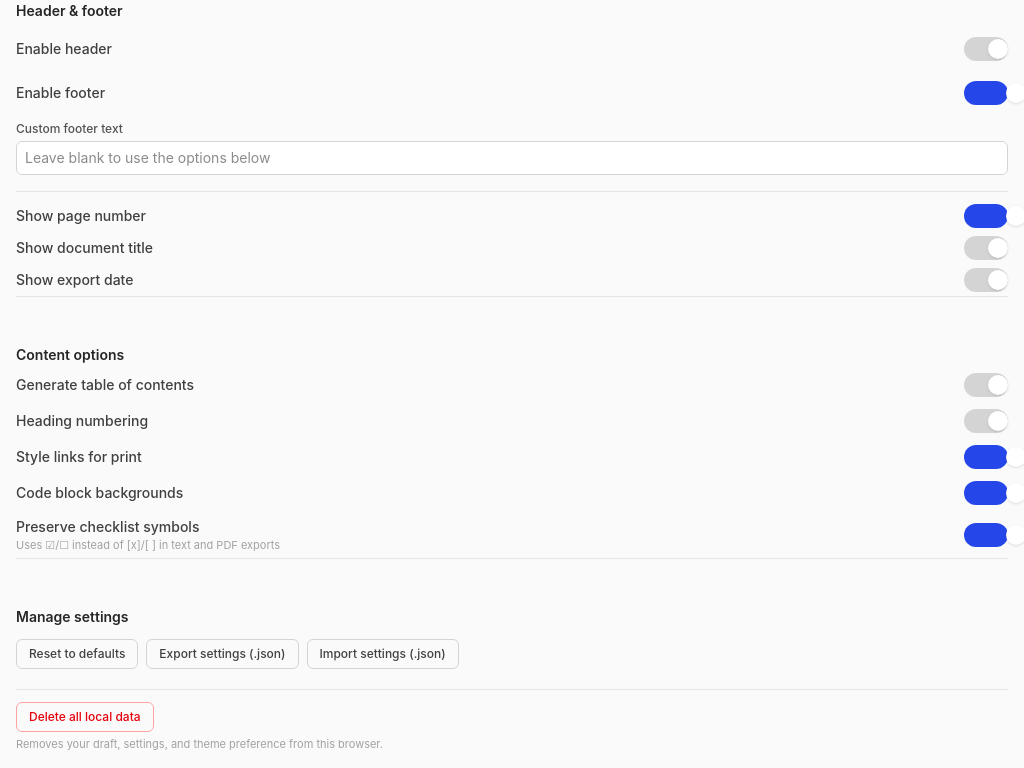
Test: SettingsPanel › opens a confirmation dialog before deleting local data
(page scrolled)
Click the button "Delete all local data".
click(85, 716)  # box [16,702,154,732]
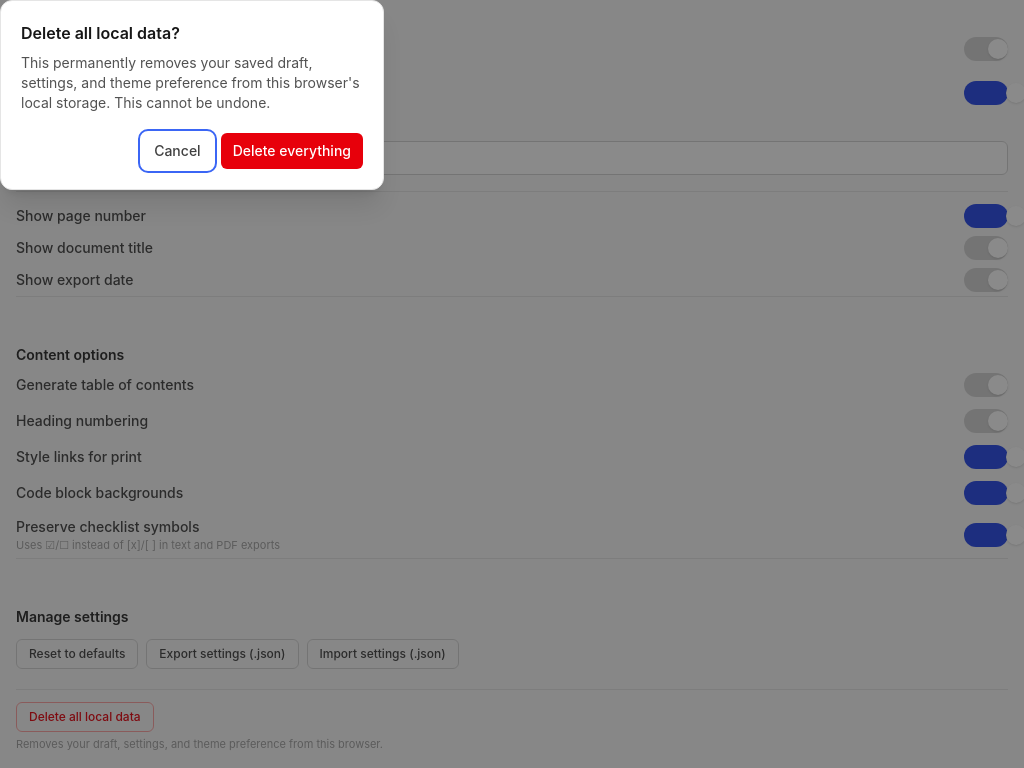
Now the heading "Delete all local data?" is shown, box [21,23,180,43]
